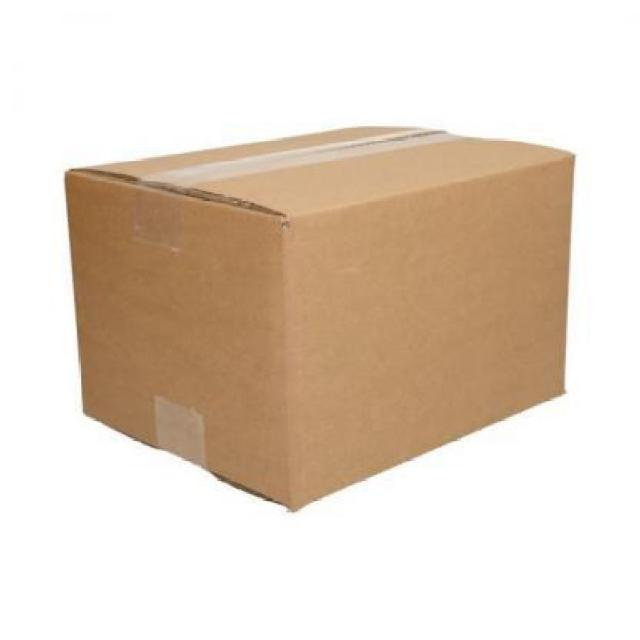box: (59, 125, 576, 512)
